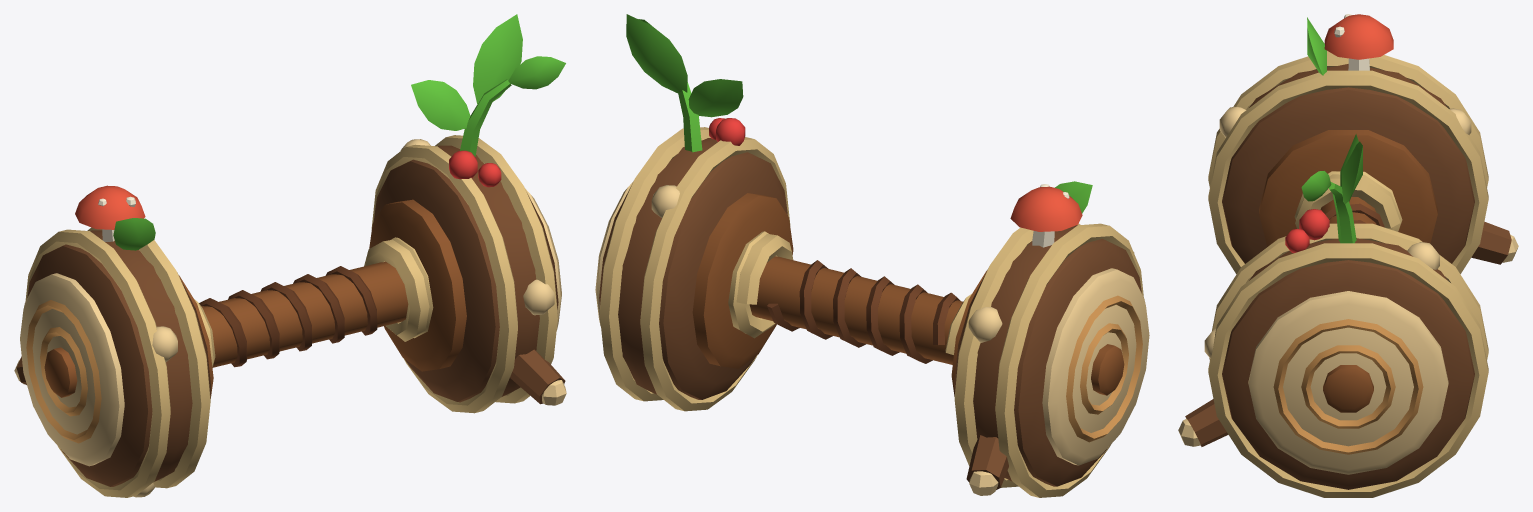
The model's file is db_01_wooden.glb.
3 renders of one model, left to right at view 1: azimuth 30°, elevation 25°; view 2: azimuth 150°, elevation 25°; view 3: azimuth 270°, elevation 25°, orthographic. The views are drawn at different scales.
Visible parts, largest first — view 1: db_01_wooden; view 2: db_01_wooden; view 3: db_01_wooden.
Boxes of the visible parts, bbox=[...] form: db_01_wooden: bbox=[14, 14, 566, 497]; db_01_wooden: bbox=[595, 14, 1149, 497]; db_01_wooden: bbox=[1178, 14, 1518, 497].
Size of the model in its own units: 2.7 by 1.96 by 1.6.
